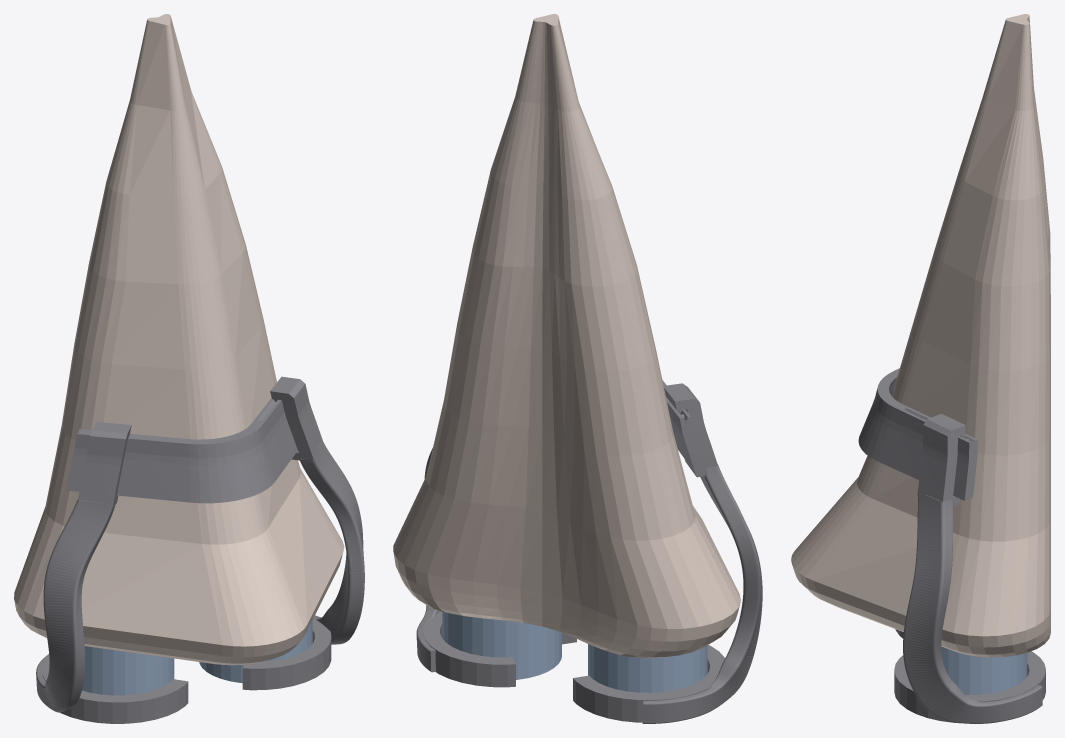
The picture shows the model from 3 angles, left to right: view 1: azimuth 30°, elevation 25°; view 2: azimuth 150°, elevation 25°; view 3: azimuth 270°, elevation 25°; orthographic projection. The views are drawn at different scales.
Visible parts, largest first — view 1: body, frame_leg_left, frame_bridge, frame_leg_right, plug_left, plug_right; view 2: body, frame_leg_left, plug_right, plug_left, frame_leg_right, frame_bridge; view 3: body, frame_leg_right, frame_bridge, plug_right.
Part boxes in pixels (x1=…): body: x1=14, y1=14, x2=344, y2=665; frame_leg_left: x1=36, y1=422, x2=188, y2=723; frame_bridge: x1=66, y1=398, x2=297, y2=503; frame_leg_right: x1=242, y1=376, x2=364, y2=690; plug_left: x1=82, y1=646, x2=174, y2=695; plug_right: x1=199, y1=620, x2=312, y2=683; body: x1=393, y1=14, x2=740, y2=658; frame_leg_left: x1=573, y1=383, x2=762, y2=723; plug_right: x1=442, y1=611, x2=561, y2=679; plug_left: x1=588, y1=644, x2=707, y2=692; frame_leg_right: x1=416, y1=448, x2=576, y2=687; frame_bridge: x1=662, y1=380, x2=707, y2=474; body: x1=791, y1=14, x2=1050, y2=657; frame_leg_right: x1=894, y1=413, x2=1045, y2=723; frame_bridge: x1=858, y1=368, x2=977, y2=500; plug_right: x1=941, y1=646, x2=1027, y2=694.
Bounding box in the file's own units: 32.2 × 61.8 × 22.75.
